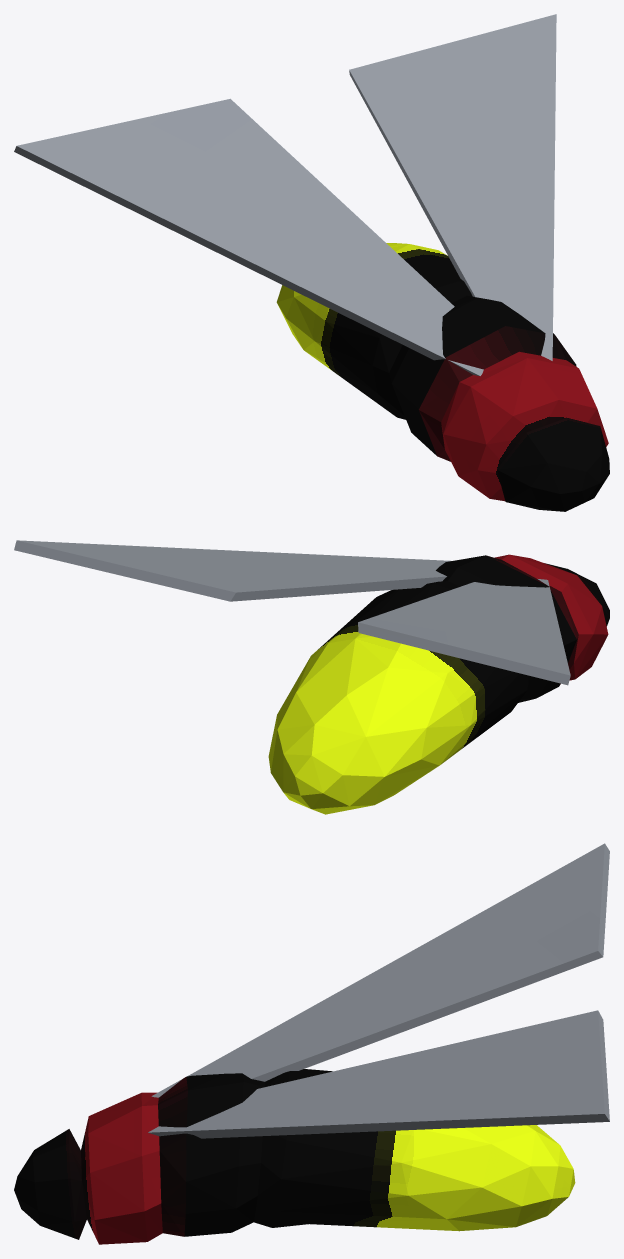
The model's file is firefly.gltf.
3 views of the same model, one above another, from view 1: azimuth 30°, elevation 25°; view 2: azimuth 150°, elevation 25°; view 3: azimuth 270°, elevation 25° (orthographic). The views are drawn at different scales.
Parts seen in each view (by area): view 1: Cube, Sphere; view 2: Sphere, Cube; view 3: Cube, Sphere.
Boxes of the visible parts, x1,y1,x2,y2 form: Cube: (14, 14, 556, 376); Sphere: (276, 243, 609, 511); Sphere: (268, 554, 609, 814); Cube: (14, 540, 570, 685); Cube: (148, 843, 609, 1138); Sphere: (14, 1069, 575, 1244).
Bounding box in the file's own units: 1.47 × 0.6395 × 1.37.
2 materials, 2 textured.
